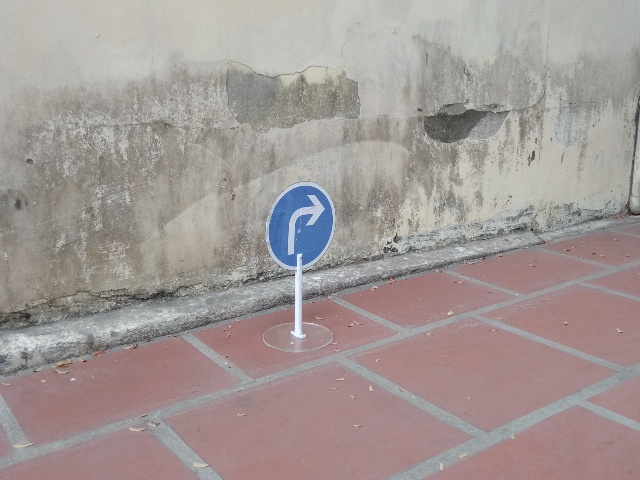Right_Sign: (266, 182, 336, 271)
